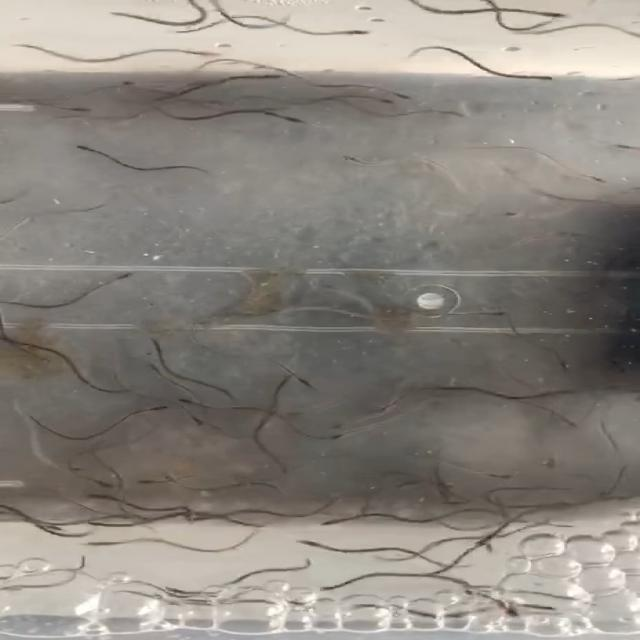active_glass_eel: (507, 57, 558, 91), (22, 33, 74, 65), (464, 300, 522, 328), (521, 186, 578, 214), (379, 470, 442, 495), (194, 7, 256, 31), (172, 91, 225, 118), (362, 390, 423, 413), (578, 475, 631, 501), (277, 368, 326, 396), (332, 148, 380, 176), (170, 64, 216, 93), (131, 400, 185, 424), (354, 86, 418, 106), (53, 371, 119, 390), (531, 596, 579, 622), (406, 321, 454, 346), (74, 268, 126, 291), (127, 150, 174, 173), (269, 111, 336, 127), (27, 461, 80, 481), (461, 529, 505, 552), (65, 191, 101, 219), (264, 291, 304, 316), (527, 343, 570, 366), (322, 507, 365, 529), (242, 414, 289, 434), (531, 10, 589, 25), (120, 61, 158, 83), (229, 510, 277, 527), (74, 532, 125, 548), (337, 419, 391, 434), (72, 472, 104, 496), (130, 473, 183, 487), (308, 96, 351, 113), (62, 136, 101, 154), (574, 168, 615, 185), (291, 582, 349, 594), (280, 536, 320, 549), (338, 27, 368, 40)
